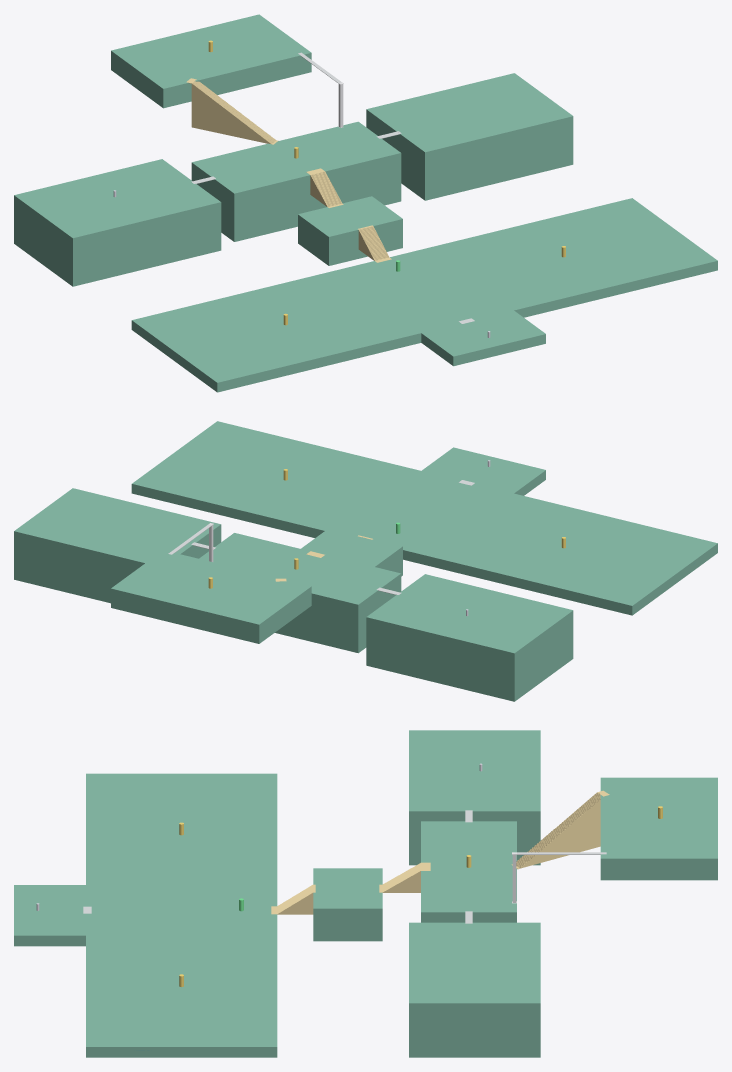
Rendered from greybox.glb.
3 views of the same model, one above another, from view 1: azimuth 30°, elevation 25°; view 2: azimuth 150°, elevation 25°; view 3: azimuth 270°, elevation 25° (orthographic). The views are drawn at different scales.
Visible parts, largest first — view 1: ZONE_wards, ZONE_bureau, ZONE_barracks, ZONE_furnace, ZONE_palace, ZONE_iway, ZONE_southgate, LINK_cloud-stair, LINK_iway-stair-2, LINK_iway-stair-1; view 2: ZONE_wards, ZONE_bureau, ZONE_barracks, ZONE_palace, ZONE_furnace, ZONE_southgate, ZONE_iway; view 3: ZONE_wards, ZONE_barracks, ZONE_bureau, ZONE_palace, ZONE_furnace, ZONE_iway, ZONE_southgate, LINK_cloud-stair, LINK_iway-stair-2, LINK_iway-stair-1.
Boxes of the visible parts, x1,y1,x2,y2 form: ZONE_wards: (131,198,717,392); ZONE_bureau: (14,159,221,286); ZONE_barracks: (366,73,573,200); ZONE_furnace: (191,121,401,241); ZONE_palace: (111,14,311,108); ZONE_iway: (298,196,402,265); ZONE_southgate: (421,310,545,366); LINK_cloud-stair: (186,78,278,144); LINK_iway-stair-2: (306,168,343,207); LINK_iway-stair-1: (358,225,391,262); ZONE_wards: (131,421,717,615); ZONE_bureau: (366,574,573,701); ZONE_barracks: (14,488,221,603); ZONE_palace: (111,550,311,643); ZONE_furnace: (199,533,401,653); ZONE_southgate: (421,447,545,495); ZONE_iway: (301,528,402,576); ZONE_wards: (86,773,277,1057); ZONE_barracks: (409,922,540,1057); ZONE_bureau: (409,730,540,865); ZONE_palace: (600,777,717,880); ZONE_furnace: (421,821,516,922); ZONE_iway: (313,868,382,941); ZONE_southgate: (14,885,85,946); LINK_cloud-stair: (511,790,609,869); LINK_iway-stair-2: (379,862,430,892); LINK_iway-stair-1: (271,884,315,914).
Bounding box in the file's own units: 540 × 105 × 588.
